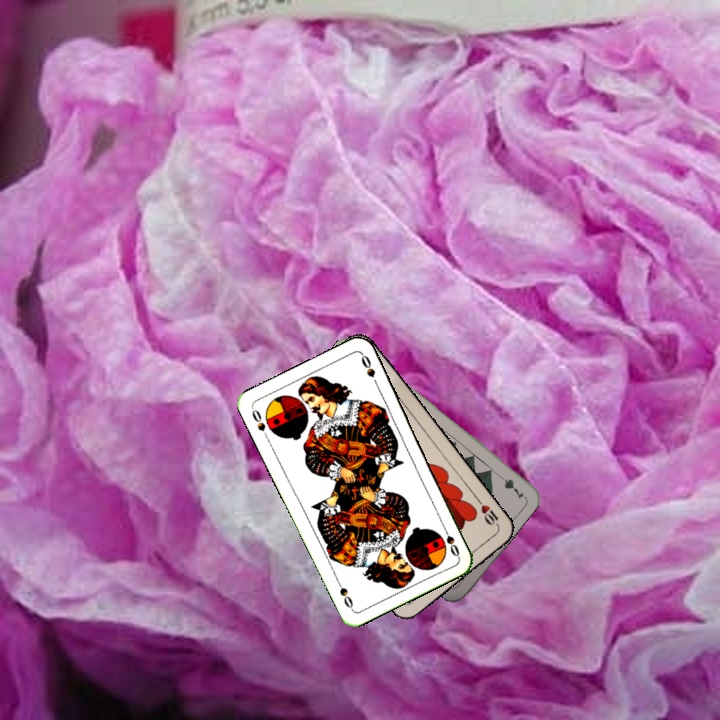G7: (492, 468, 527, 499)
H10: (473, 495, 502, 530)
SO: (438, 521, 462, 559), (248, 404, 272, 442)
